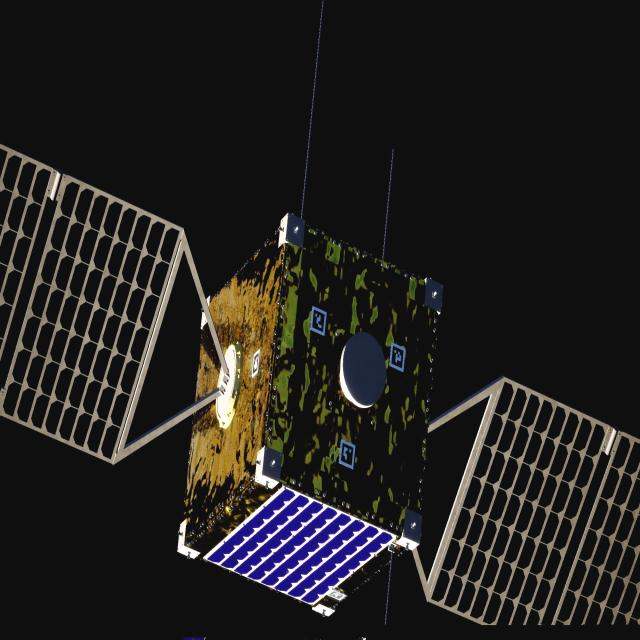satellite: (0, 147, 640, 632)
